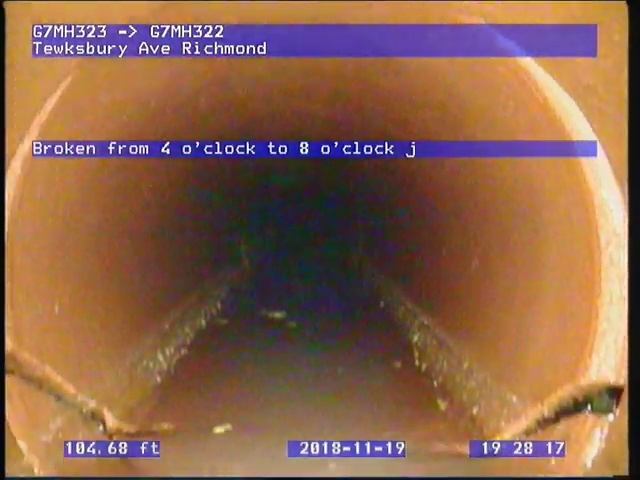crack: (5, 337, 173, 471), (469, 381, 627, 457)
